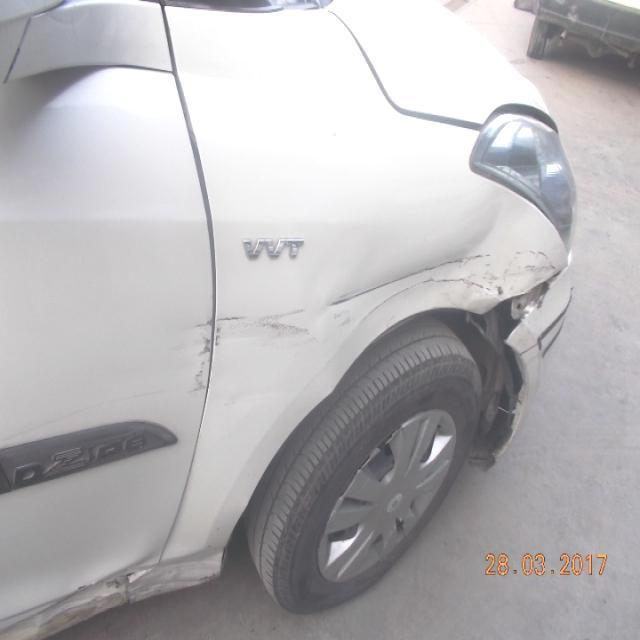minor: (193, 320, 216, 396)
moderate: (214, 186, 564, 391), (0, 567, 157, 640)
